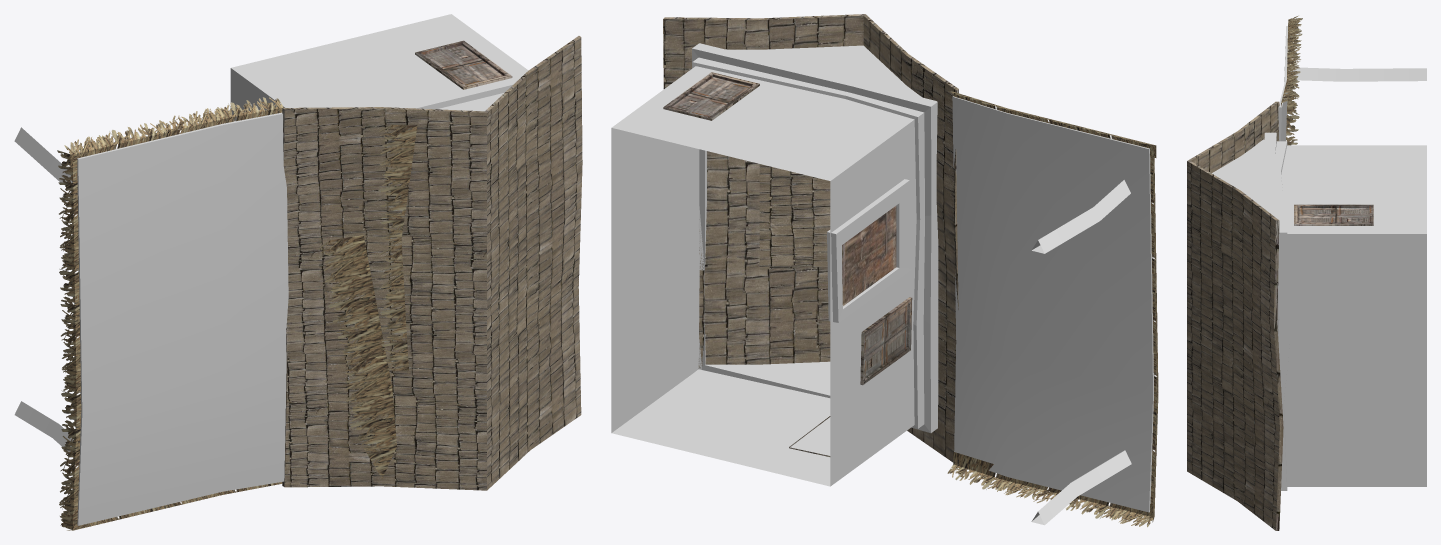
The model's file is PirateHouses.fbx.
The picture shows the model from 3 angles, left to right: view 1: azimuth 30°, elevation 25°; view 2: azimuth 150°, elevation 25°; view 3: azimuth 270°, elevation 25°; orthographic projection. The views are drawn at different scales.
Visible parts, largest first — view 1: Plane.001; view 2: Plane.001; view 3: Plane.001.
Boxes of the visible parts, left/top/right/bottom form: Plane.001: left=14, top=14, right=582, bottom=530; Plane.001: left=611, top=14, right=1158, bottom=527; Plane.001: left=1187, top=15, right=1426, bottom=530.
Size of the model in its own units: 343 by 690 by 506.
Materials: 7 (4 with a texture image).
